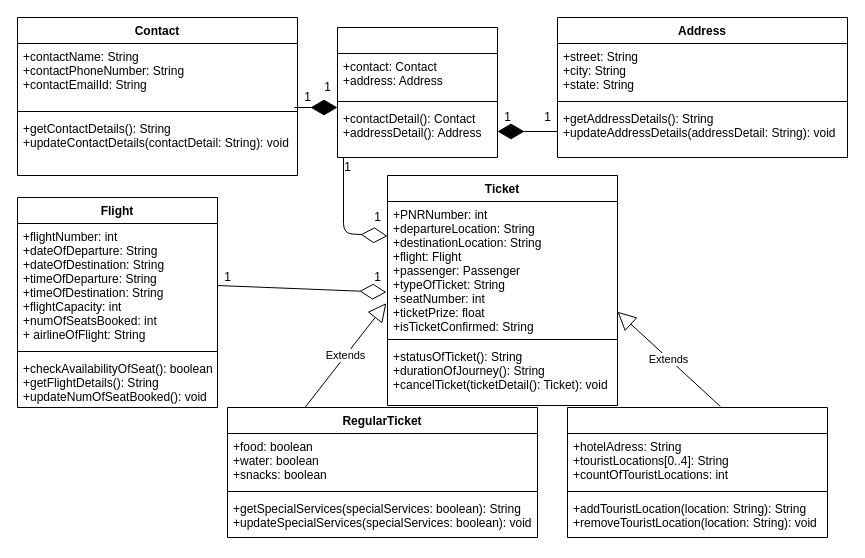
Some shapes in this 865 by 558 pixel diagram are drawn without their labels. Each missing label, with the box of its shape:
Passenger: (336, 26, 498, 158)
TouristTicket: (566, 406, 828, 538)
